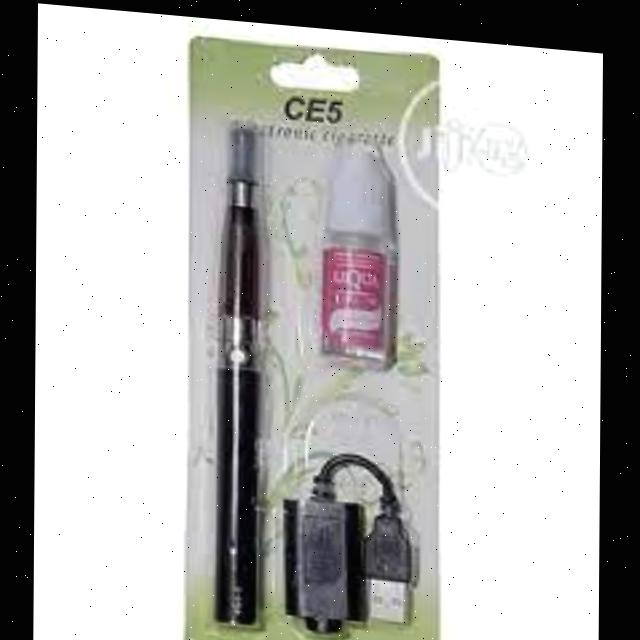vape: (213, 108, 270, 632)
